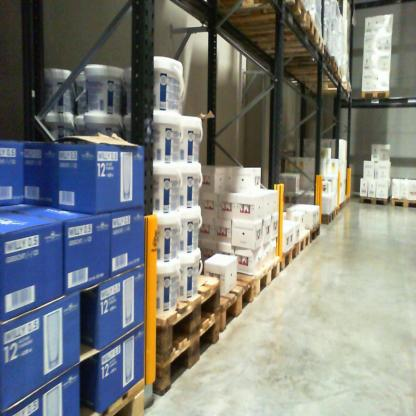pallet: (134, 270, 230, 363), (153, 310, 221, 405), (190, 265, 258, 339), (217, 8, 316, 58), (216, 253, 283, 304), (78, 370, 151, 416), (253, 30, 333, 63), (269, 57, 343, 88), (214, 0, 308, 23), (331, 190, 392, 221), (299, 77, 353, 107), (290, 45, 335, 77), (280, 68, 347, 84), (274, 237, 298, 275), (359, 88, 390, 108), (312, 209, 335, 231), (293, 229, 312, 250), (390, 195, 416, 208), (307, 222, 320, 247)
